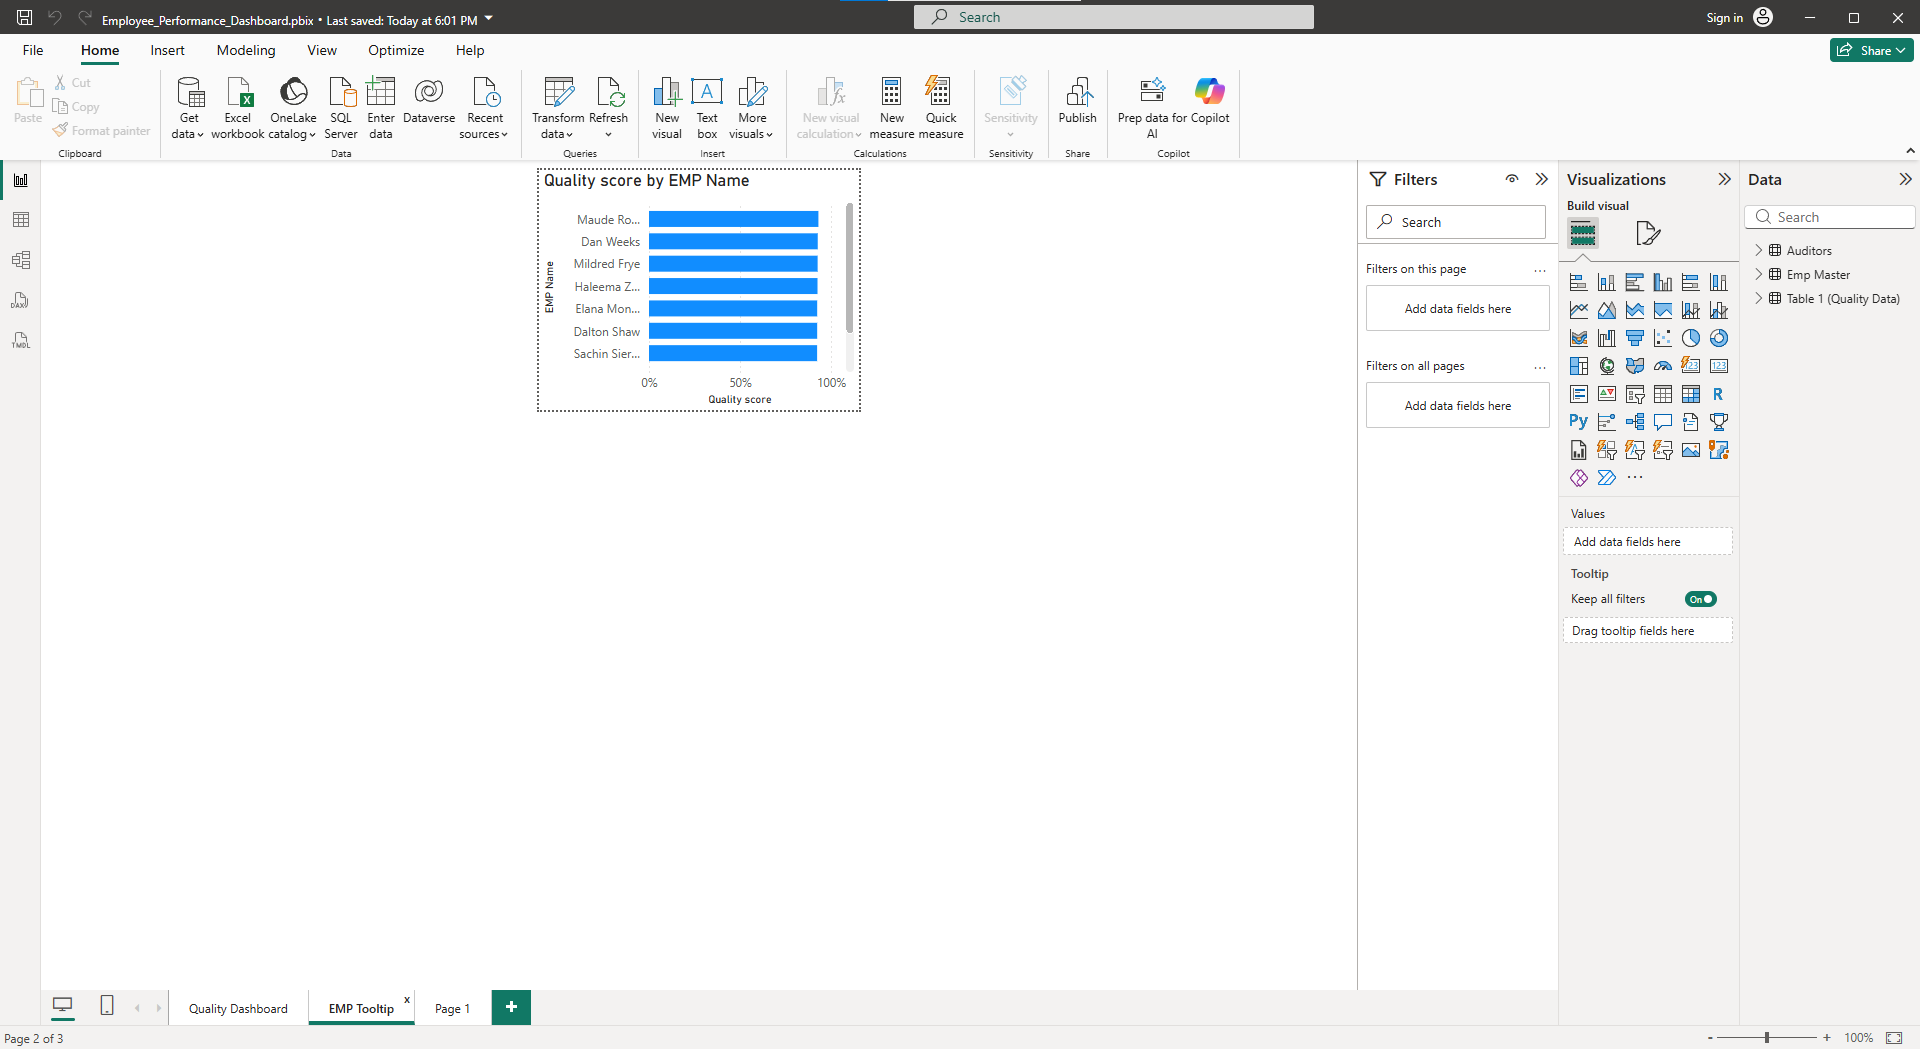

This screenshot's page, from the dashboard's own definition file:
{"tool":"powerbi","page":{"name":"EMP Tooltip","canvas":[320,240],"ordinal":1},"visuals":[{"type":"clusteredBarChart","fields":{"Y":["Table 1 (Quality Data).Quality score"],"Category":["Emp Master.EMP Name"]},"box":[0,0,320,240],"z":0}]}

Visuals, with their boxes in screenshot pixels (x1, y1, x2, y2):
clusteredBarChart - Table 1 (Quality Data).Quality score x Emp Master.EMP Name: bbox=[25, 25, 1357, 1024]
